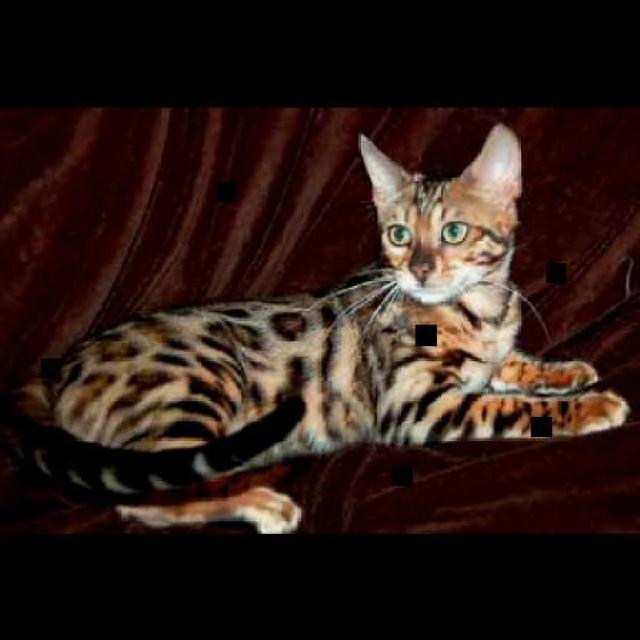unauthorized: (2, 120, 630, 535)
